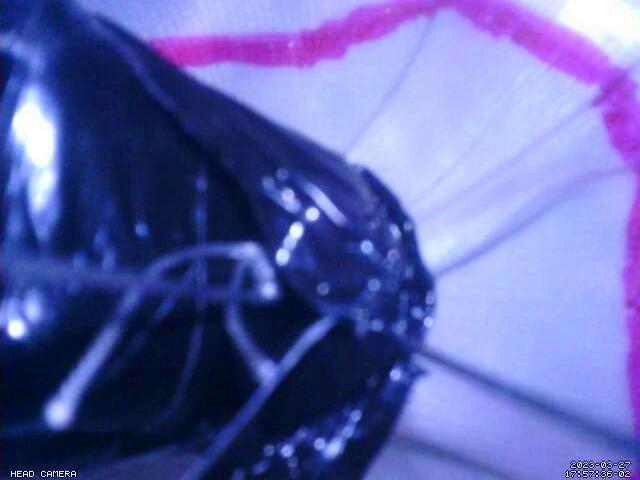red-circle: (145, 0, 640, 480)
